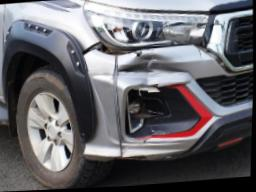Bumper: (81, 43, 230, 162)
